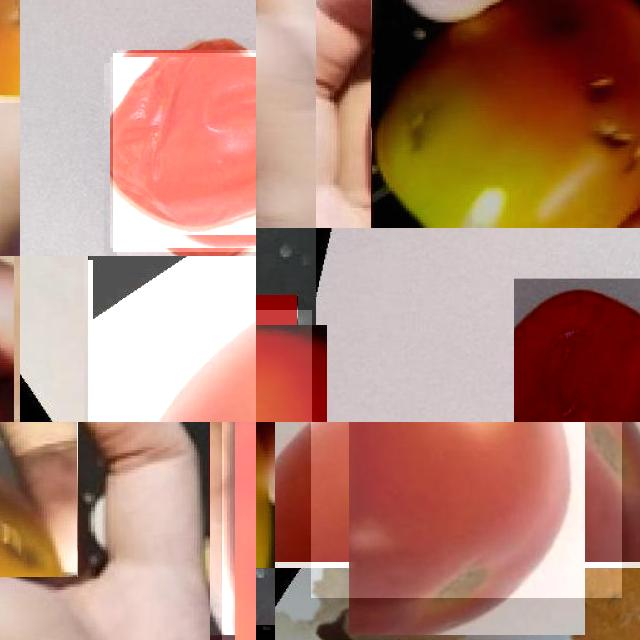Fresh Tomato: (311, 422, 622, 598), (88, 256, 256, 422)
Rotten Tomato: (371, 0, 640, 228), (113, 53, 256, 252), (514, 278, 640, 422), (0, 422, 77, 577)
